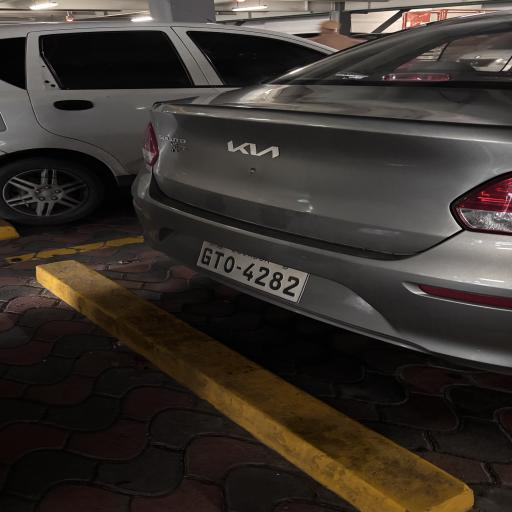license_plate: (197, 242, 308, 302)
